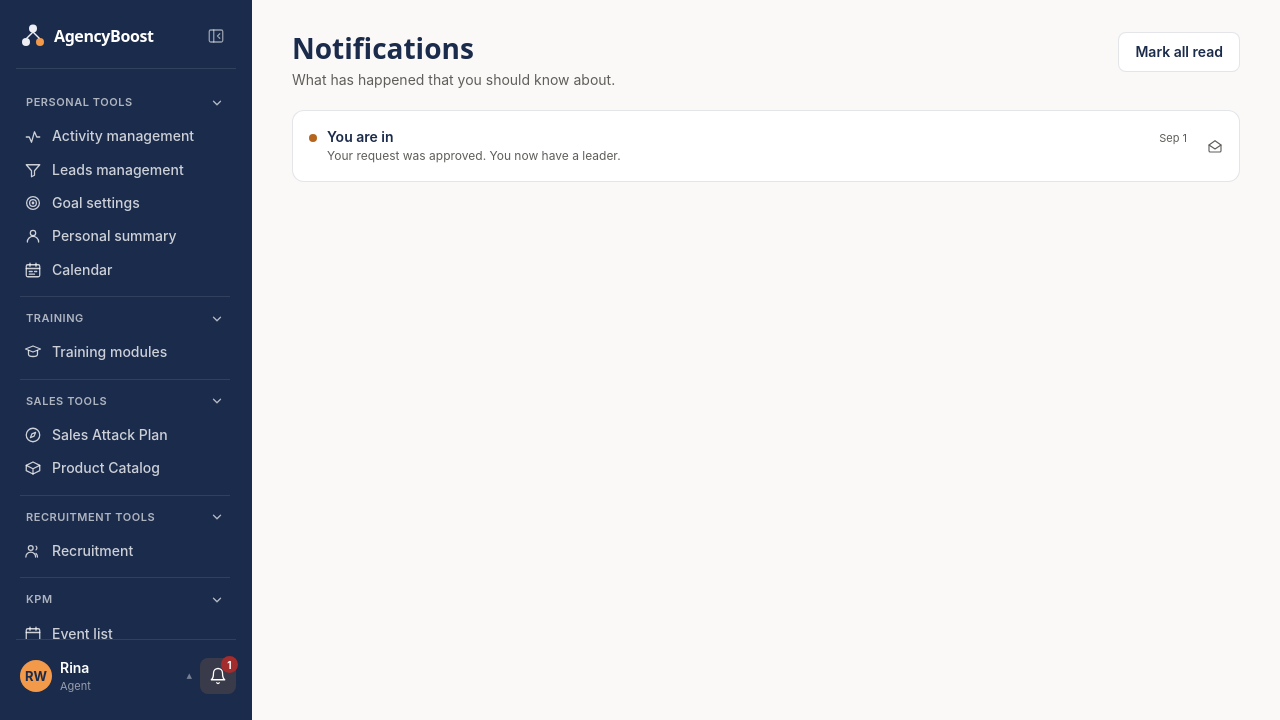
Test: the notifications inbox (P3.5-T10, P12.1) › P12.1-T3 AC-2: a mark that fails leaves the row unread, says why, and still opens it
Step 1. Click the button named "Unread: You are in" → x=350, y=135, box [299,119,1197,173]
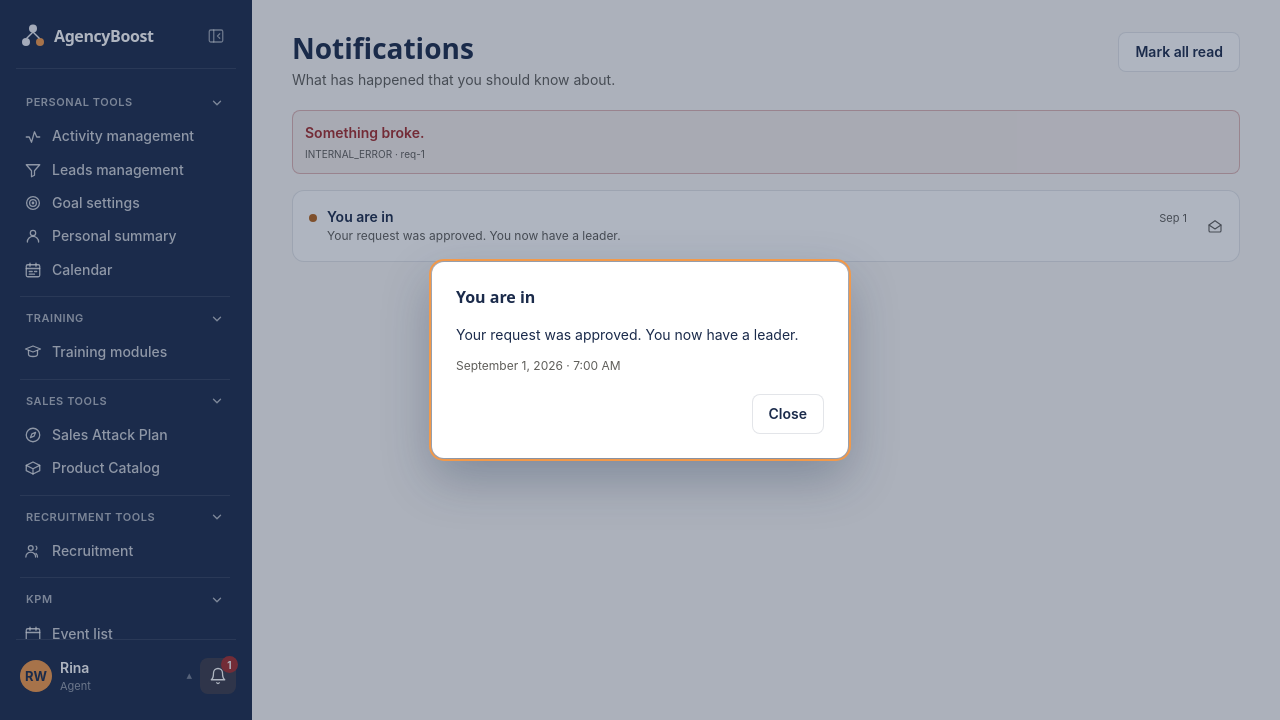
Check: the button named "Unread: You are in" is shown, box [299,199,1197,253]
Check: the dialog "You are in" is shown, box [432,262,848,458]
Check: the text "Something broke." is shown, box [305,124,424,141]
